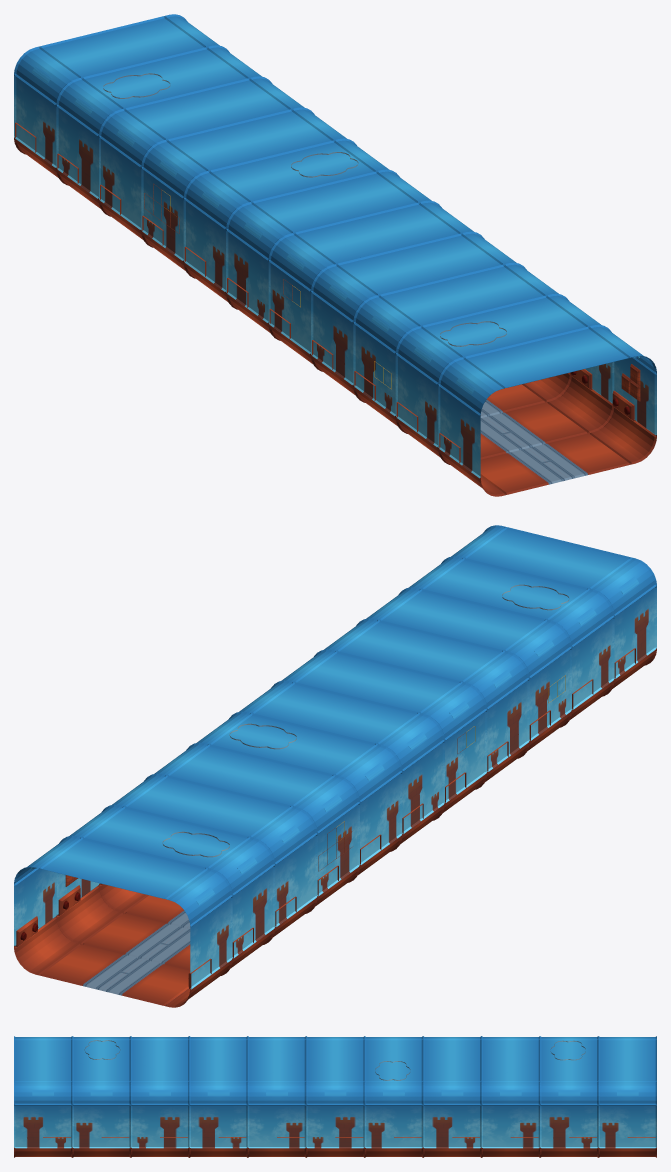
Rendered from Level 2 Room 2 .fbx.
3 renders of one model, top to bottom at view 1: azimuth 30°, elevation 25°; view 2: azimuth 150°, elevation 25°; view 3: azimuth 270°, elevation 25°, orthographic. The views are drawn at different scales.
Parts seen in each view (by area): view 1: Level 2 Main Body 1.010, Level 2 Main Body 2.009, Level 2 Main Body 1.011, Level 2 Main Body 1.006, Level 2 Main Body 1.004, Level 2 Main Body 1.009, Level 2 Main Body 2.011, Level 2 Main Body 2.007, Level 2 Main Body 2.010, Level 2 Main Body 1.012, Level 2 Main Body 2.004, Level 2 Big Brick .001; view 2: Level 2 Main Body 2.011, Level 2 Main Body 1.012, Level 2 Main Body 2.010, Level 2 Main Body 1.004, Level 2 Main Body 1.009, Level 2 Main Body 2.007, Level 2 Main Body 1.010, Level 2 Main Body 1.006, Level 2 Main Body 1.011, Level 2 Main Body 2.009, Level 2 Main Body 2.004, Level 2 Big Brick .001; view 3: Level 2 Main Body 2.007, Level 2 Main Body 2.004, Level 2 Main Body 1.006, Level 2 Main Body 1.009, Level 2 Main Body 1.010, Level 2 Main Body 1.011, Level 2 Main Body 1.012, Level 2 Main Body 2.010, Level 2 Main Body 2.011, Level 2 Main Body 1.004, Level 2 Main Body 2.009, Level 2 Big Brick .001.
Part boxes in pixels (<box>): Level 2 Main Body 1.010: <box>438,324,656,496</box>; Level 2 Main Body 2.009: <box>395,293,614,459</box>; Level 2 Main Body 1.011: <box>353,262,571,426</box>; Level 2 Main Body 1.006: <box>141,107,346,270</box>; Level 2 Main Body 1.004: <box>226,169,431,333</box>; Level 2 Main Body 1.009: <box>311,231,516,395</box>; Level 2 Main Body 2.011: <box>14,14,219,177</box>; Level 2 Main Body 2.007: <box>268,200,473,363</box>; Level 2 Main Body 2.010: <box>99,76,304,239</box>; Level 2 Main Body 1.012: <box>56,45,262,208</box>; Level 2 Main Body 2.004: <box>183,138,389,302</box>; Level 2 Big Brick .001: <box>15,122,635,463</box>; Level 2 Main Body 2.011: <box>14,835,232,1007</box>; Level 2 Main Body 1.012: <box>56,804,275,970</box>; Level 2 Main Body 2.010: <box>99,773,317,937</box>; Level 2 Main Body 1.004: <box>239,680,444,844</box>; Level 2 Main Body 1.009: <box>324,618,529,781</box>; Level 2 Main Body 2.007: <box>281,649,487,813</box>; Level 2 Main Body 1.010: <box>451,525,656,688</box>; Level 2 Main Body 1.006: <box>154,742,359,906</box>; Level 2 Main Body 1.011: <box>366,587,571,750</box>; Level 2 Main Body 2.009: <box>408,556,614,719</box>; Level 2 Main Body 2.004: <box>197,711,402,874</box>; Level 2 Big Brick .001: <box>15,648,635,988</box>; Level 2 Main Body 2.007: <box>247,1036,306,1157</box>; Level 2 Main Body 2.004: <box>364,1036,423,1157</box>; Level 2 Main Body 1.006: <box>423,1036,481,1157</box>; Level 2 Main Body 1.009: <box>189,1036,247,1157</box>; Level 2 Main Body 1.010: <box>14,1036,72,1157</box>; Level 2 Main Body 1.011: <box>131,1036,189,1157</box>; Level 2 Main Body 1.012: <box>540,1036,598,1157</box>; Level 2 Main Body 2.010: <box>481,1036,539,1157</box>; Level 2 Main Body 2.011: <box>598,1036,656,1157</box>; Level 2 Main Body 1.004: <box>306,1036,364,1157</box>; Level 2 Main Body 2.009: <box>72,1036,130,1157</box>; Level 2 Big Brick .001: <box>43,1137,655,1137</box>.
Size of the model in its own units: 2118 by 1229 by 9702.
